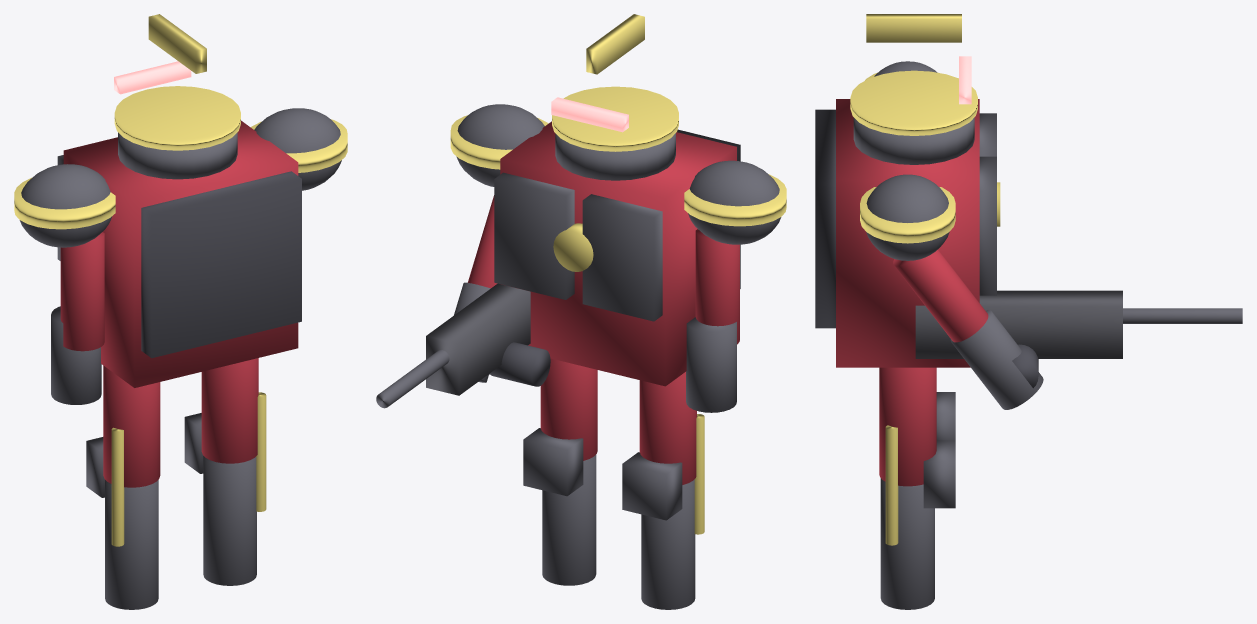
The model's file is Boss_Ironclad_Juggernaut.fbx.
3 renders of one model, left to right at view 1: azimuth 30°, elevation 25°; view 2: azimuth 150°, elevation 25°; view 3: azimuth 270°, elevation 25°, orthographic.
Parts seen in each view (by area): view 1: Back_Armor, Torso_Suit, Collar_Trim, Shin_R, Shin_L, Thigh_R, Thigh_L, Arm_L, Pauldron_L, Blast_Collar, Pauldron_R, Vambrace_L (+8 smaller); view 2: Torso_Suit, Chest_Slab_L, Chest_Slab_R, Boss_HeavySAW, Collar_Trim, Shin_R, Shin_L, Thigh_L, Pauldron_L, Vambrace_L, Thigh_R, Arm_L (+14 smaller); view 3: Torso_Suit, Boss_HeavySAW, Collar_Trim, Thigh_R, Shin_R, Back_Armor, Arm_R, Pauldron_R, Vambrace_R, Blast_Collar, Helmet_Crown, Chest_Slab_R (+8 smaller).
Boxes of the visible parts, x1,y1,x2,y2 form: Back_Armor: (141, 171, 301, 358); Torso_Suit: (63, 120, 298, 387); Collar_Trim: (114, 86, 240, 150); Shin_R: (203, 456, 256, 585); Shin_L: (105, 480, 158, 609); Thigh_R: (201, 358, 258, 463); Thigh_L: (103, 365, 160, 487); Arm_L: (60, 232, 104, 351); Pauldron_L: (19, 164, 111, 247); Blast_Collar: (118, 132, 237, 179); Pauldron_R: (254, 108, 341, 190); Vambrace_L: (51, 306, 101, 404); Torso_Suit: (500, 121, 736, 386); Chest_Slab_L: (582, 194, 662, 321); Chest_Slab_R: (494, 172, 574, 299); Boss_HeavySAW: (426, 283, 530, 395); Collar_Trim: (552, 86, 678, 151); Shin_R: (542, 454, 596, 585); Shin_L: (641, 479, 695, 609); Thigh_L: (639, 372, 696, 484); Pauldron_L: (688, 160, 781, 244); Vambrace_L: (686, 317, 736, 412); Thigh_R: (540, 358, 597, 460); Arm_L: (695, 229, 739, 344); Torso_Suit: (836, 99, 979, 367); Boss_HeavySAW: (915, 290, 1122, 358); Collar_Trim: (850, 70, 977, 135); Thigh_R: (879, 367, 936, 486); Shin_R: (880, 478, 934, 609); Back_Armor: (815, 109, 835, 328); Arm_R: (893, 249, 988, 342); Pauldron_R: (866, 174, 949, 260); Vambrace_R: (950, 310, 1043, 409); Blast_Collar: (853, 117, 974, 164); Helmet_Crown: (866, 14, 961, 42); Chest_Slab_R: (979, 156, 996, 295).
Size of the model in its own units: 151 by 247 by 172.
